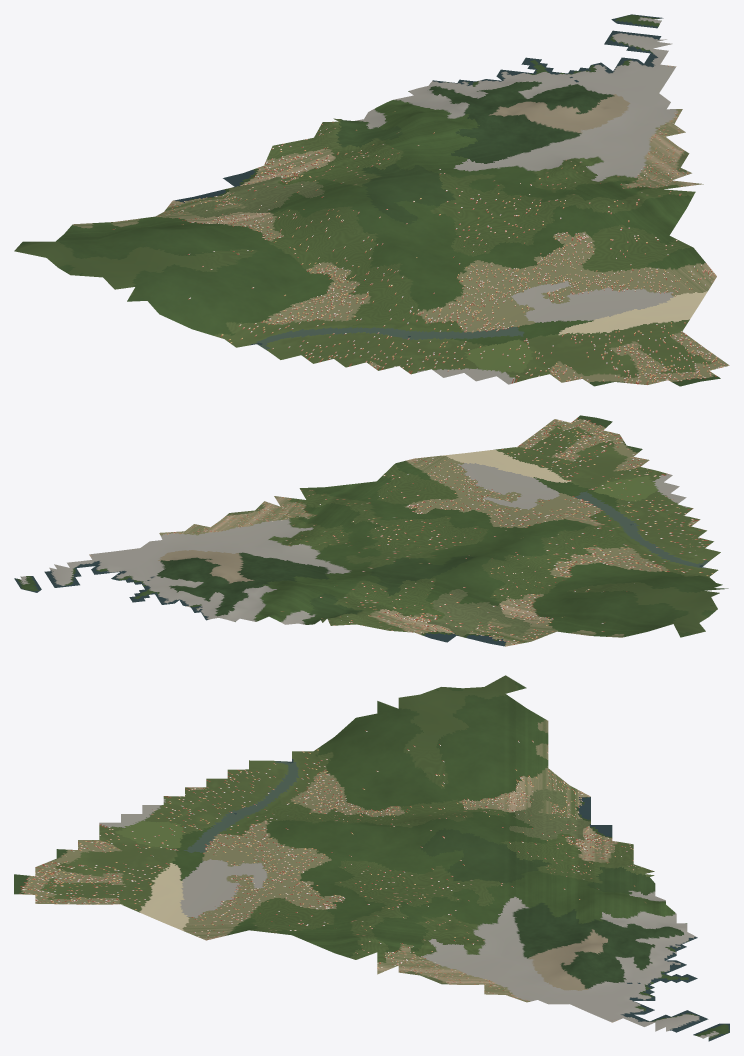
File: SM_Fondale_Colline_E_LOD2.fbx
3 renders of one model, top to bottom at view 1: azimuth 30°, elevation 25°; view 2: azimuth 150°, elevation 25°; view 3: azimuth 270°, elevation 25°, orthographic. The views are drawn at different scales.
Visible parts, largest first — view 1: SM_Fondale_Colline_E_LOD2; view 2: SM_Fondale_Colline_E_LOD2; view 3: SM_Fondale_Colline_E_LOD2.
Part boxes in pixels (x1,y1,x2,y2): SM_Fondale_Colline_E_LOD2: (14,14,729,386); SM_Fondale_Colline_E_LOD2: (14,415,728,646); SM_Fondale_Colline_E_LOD2: (14,675,729,1041).
Size of the model in its own units: 888000 by 804000 by 41698.
1 material, 1 textured.
